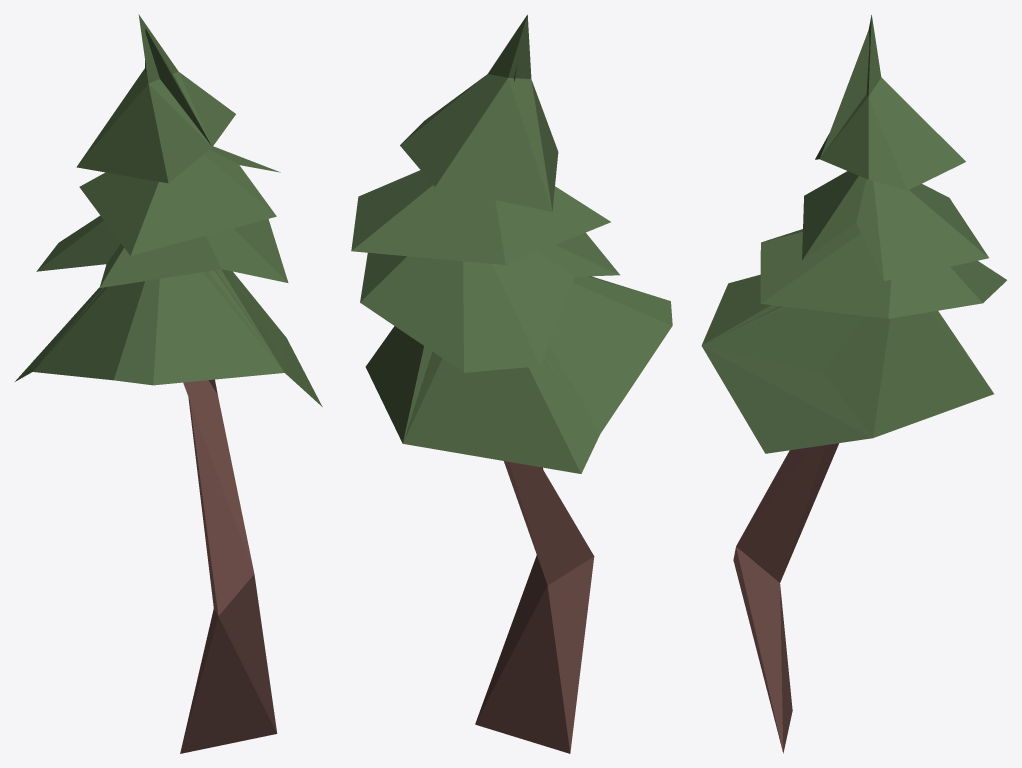
The model's file is PineTree_4.lod3.glb.
3 views of the same model, side by side, from view 1: azimuth 30°, elevation 25°; view 2: azimuth 150°, elevation 25°; view 3: azimuth 270°, elevation 25° (orthographic). The views are drawn at different scales.
Parts seen in each view (by area): view 1: PineTree_4; view 2: PineTree_4; view 3: PineTree_4.
Boxes of the visible parts, x1=… form: PineTree_4: x1=15, y1=14, x2=322, y2=753; PineTree_4: x1=351, y1=14, x2=672, y2=753; PineTree_4: x1=701, y1=15, x2=1006, y2=753.
Size of the model in its own units: 1.16 by 3.34 by 1.33.
